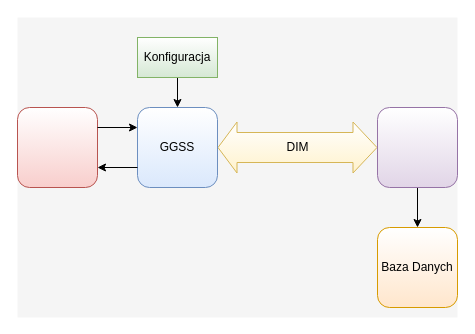
Image size: 475x334. Some labels were removed from this diagram. The centre of each missing label's shape, as x and y in pixels:
Urządzenia (hardware): (57,147)
WINCC OA: (417,147)
